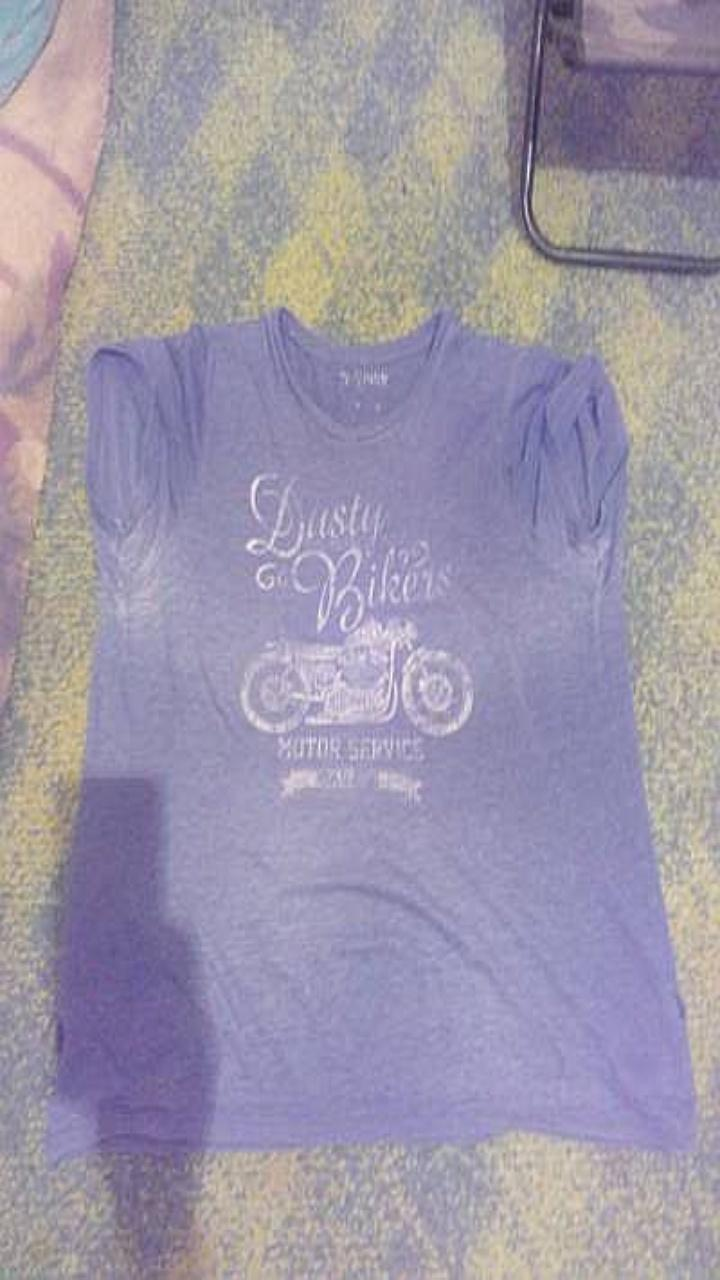T-Shirt: (46, 306, 694, 1160)
